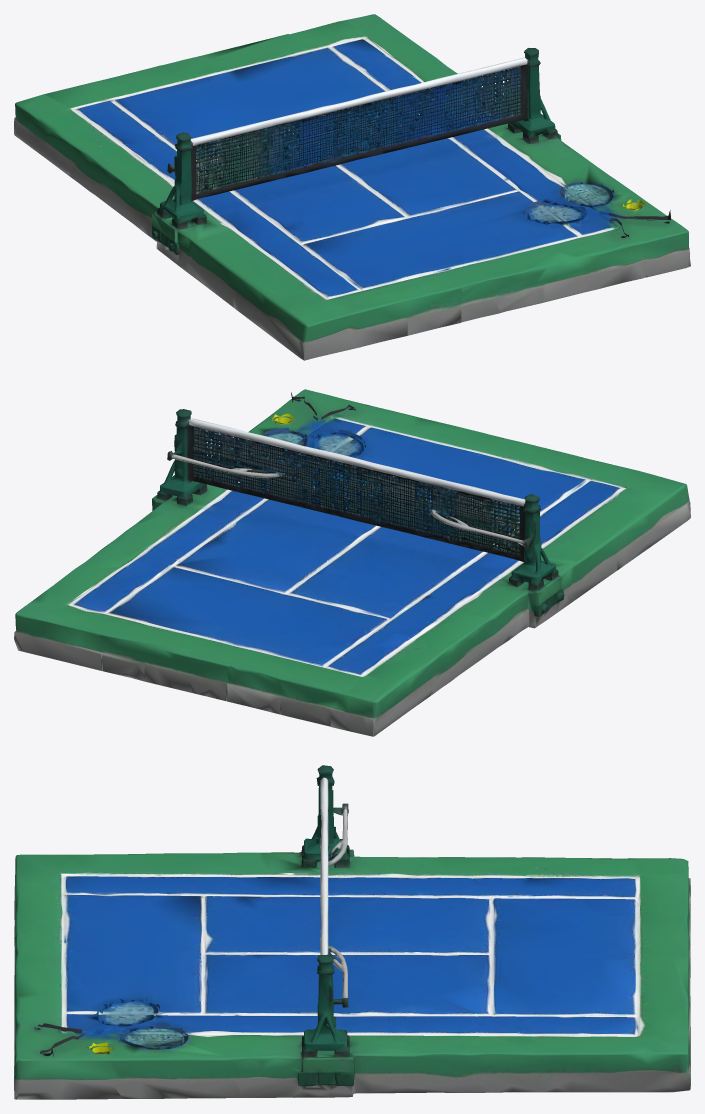
Rendered from tennis.glb.
3 views of the same model, one above another, from view 1: azimuth 30°, elevation 25°; view 2: azimuth 150°, elevation 25°; view 3: azimuth 270°, elevation 25° (orthographic). The views are drawn at different scales.
Parts seen in each view (by area): view 1: tripo_node_8022184b-42e3-442e-bcea-959aaa2b59e0; view 2: tripo_node_8022184b-42e3-442e-bcea-959aaa2b59e0; view 3: tripo_node_8022184b-42e3-442e-bcea-959aaa2b59e0.
Part boxes in pixels (x1,y1,x2,y2): tripo_node_8022184b-42e3-442e-bcea-959aaa2b59e0: (14,14,690,360); tripo_node_8022184b-42e3-442e-bcea-959aaa2b59e0: (14,389,690,736); tripo_node_8022184b-42e3-442e-bcea-959aaa2b59e0: (14,765,690,1099).
Size of the model in its own units: 0.7403 by 0.2159 by 1.
1 material, 1 textured.
